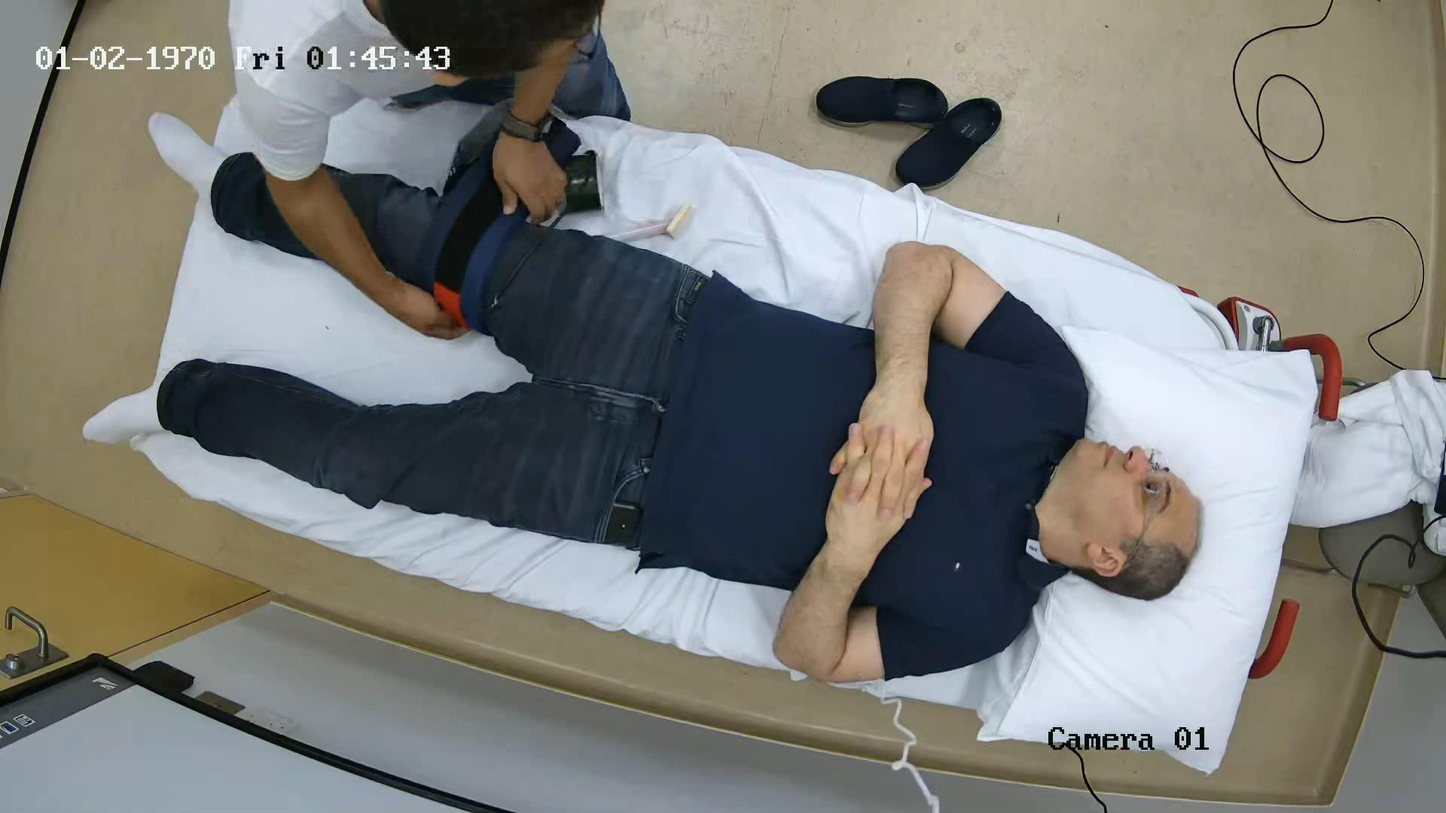bed: (134, 61, 1341, 772)
patient: (158, 154, 1199, 682)
prepstick: (606, 204, 693, 243)
tourniquet: (404, 144, 529, 334)
